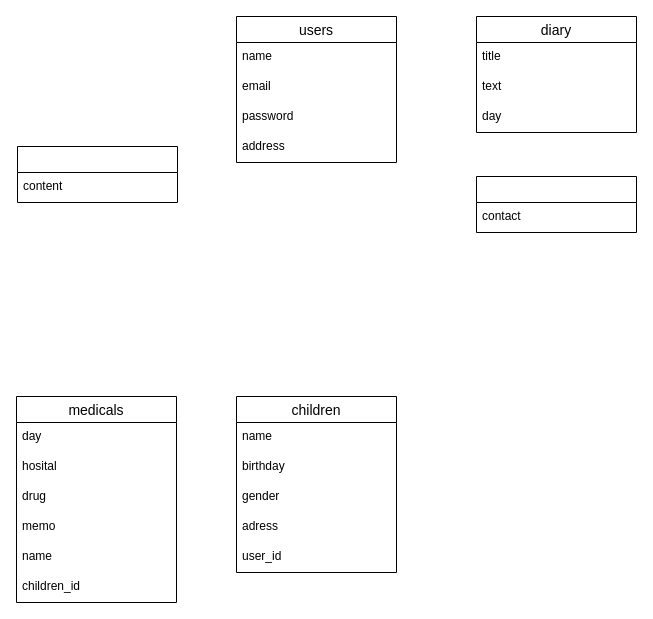
This 653x619 diagram has some shape labels left out. Here are the shapes that lost their labels. From the top down, the box of each, then its label:
(16, 146, 178, 202): mediacl_comments
(476, 176, 636, 232): comments
